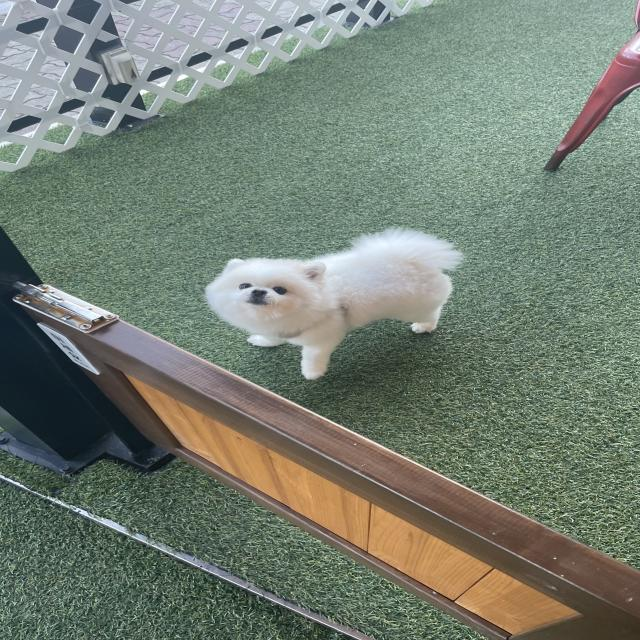Dog: (203, 228, 466, 380)
